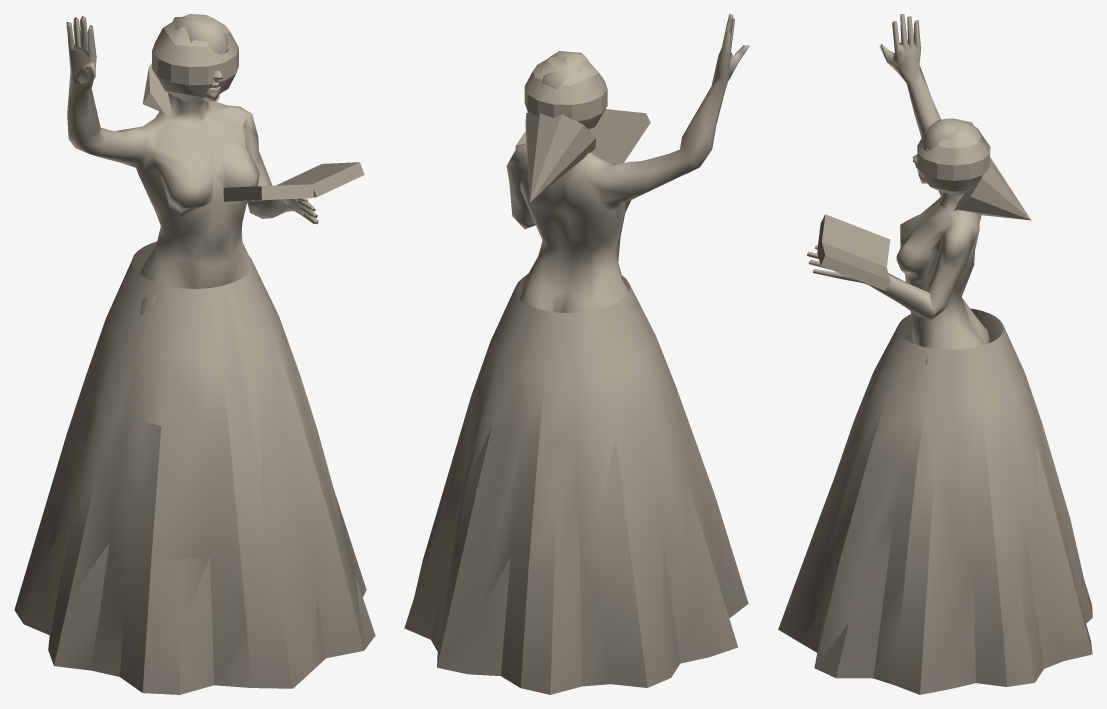
The model's file is hero_e5.glb.
3 renders of one model, left to right at view 1: azimuth 30°, elevation 25°; view 2: azimuth 150°, elevation 25°; view 3: azimuth 270°, elevation 25°, orthographic. The views are drawn at different scales.
Visible parts, largest first — view 1: HERO_E52; view 2: HERO_E52; view 3: HERO_E52.
Boxes of the visible parts, x1,y1,x2,y2 form: HERO_E52: (14, 14, 375, 694); HERO_E52: (404, 14, 749, 694); HERO_E52: (778, 14, 1092, 694).
Size of the model in its own units: 1.81 by 3.61 by 1.84.
